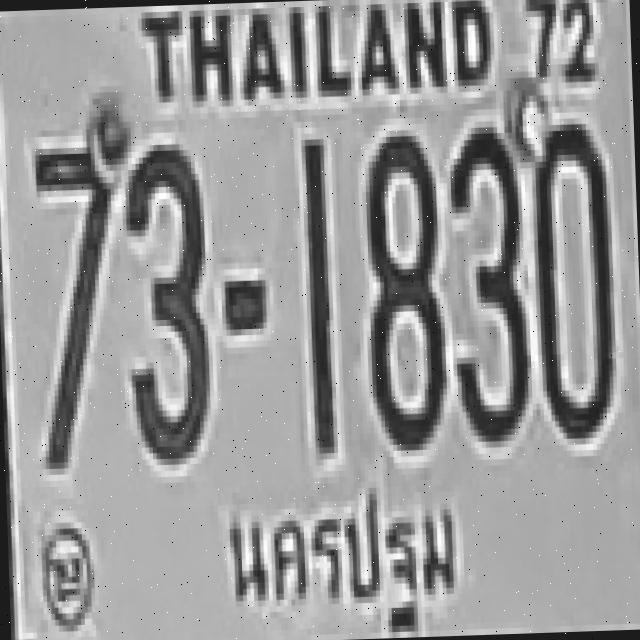0: (530, 120, 614, 436)
1: (298, 136, 336, 450)
3: (119, 137, 208, 460), (442, 123, 528, 439)
7: (28, 122, 129, 469)
8: (360, 129, 444, 445)
NakhonPathom: (214, 466, 463, 640)
